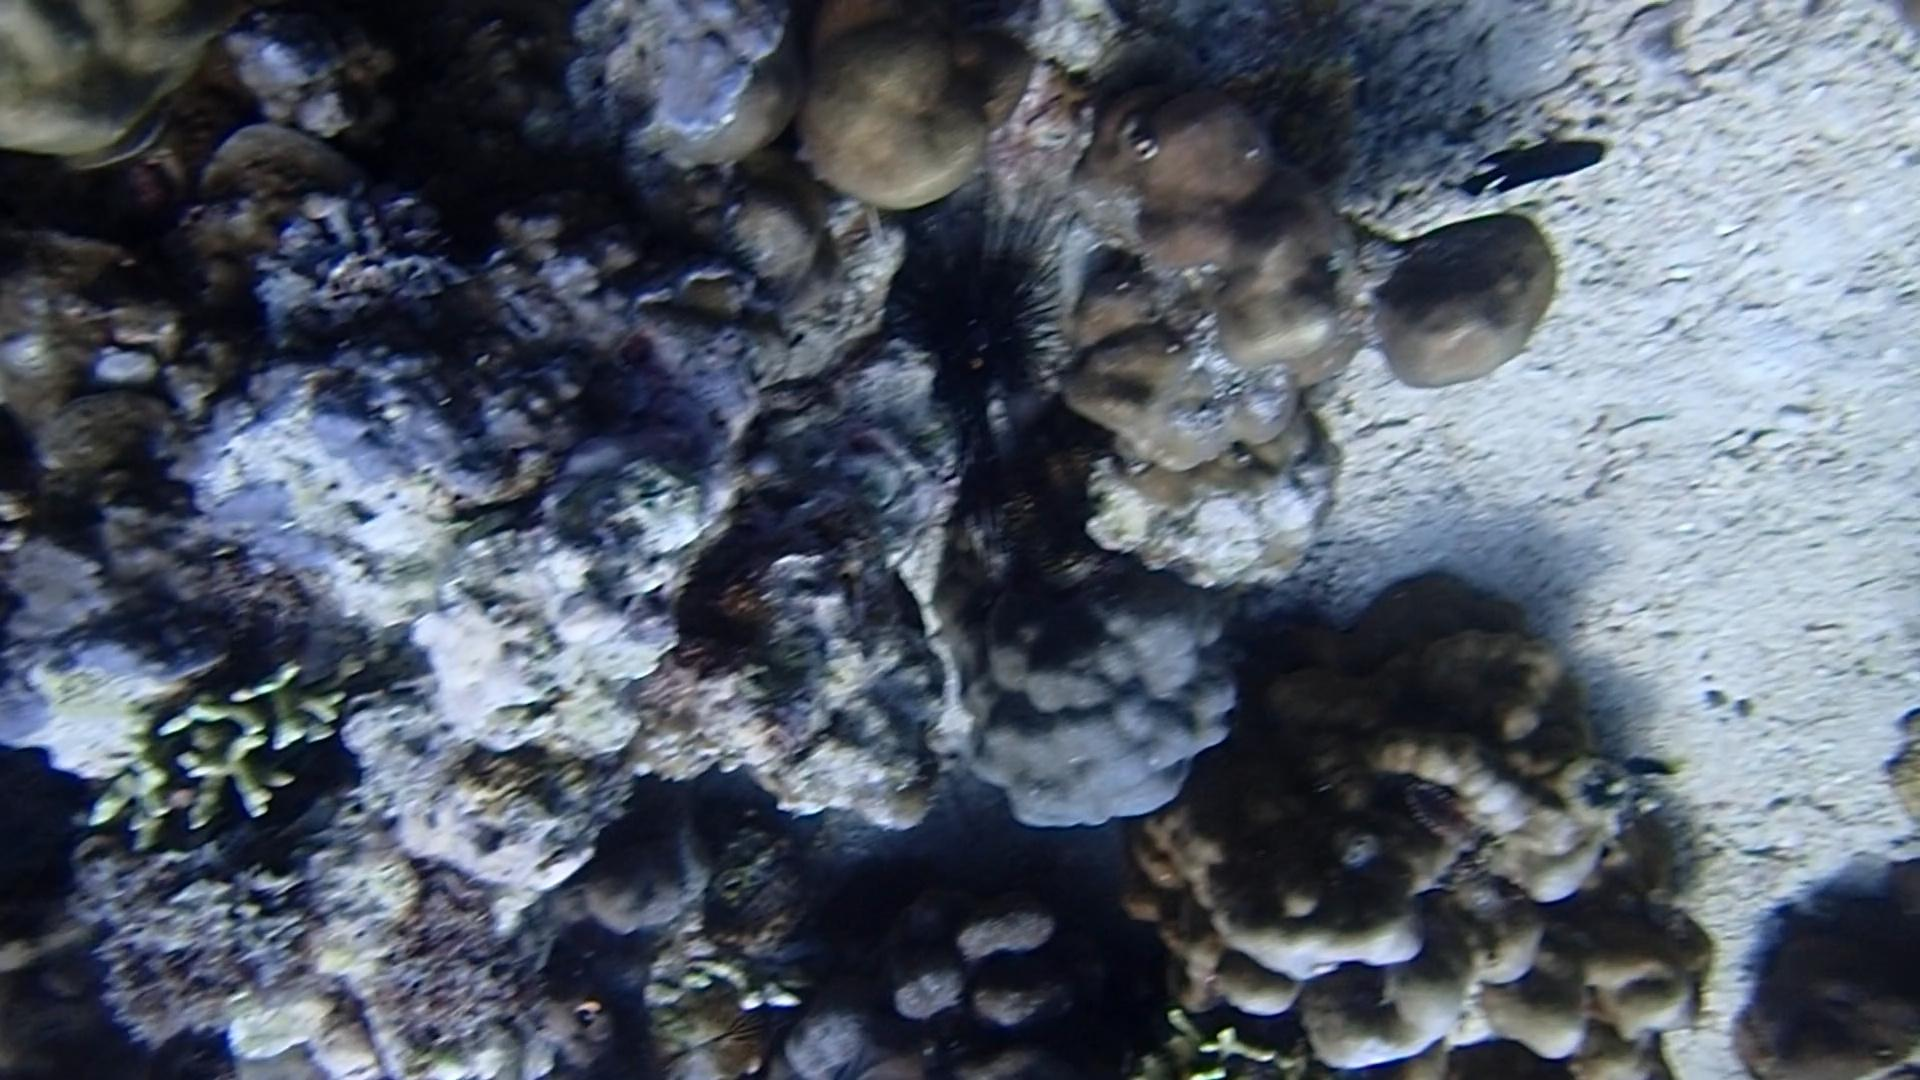Dark Fish: (1456, 127, 1619, 203)
Yellow Tail: (1613, 737, 1695, 793)
